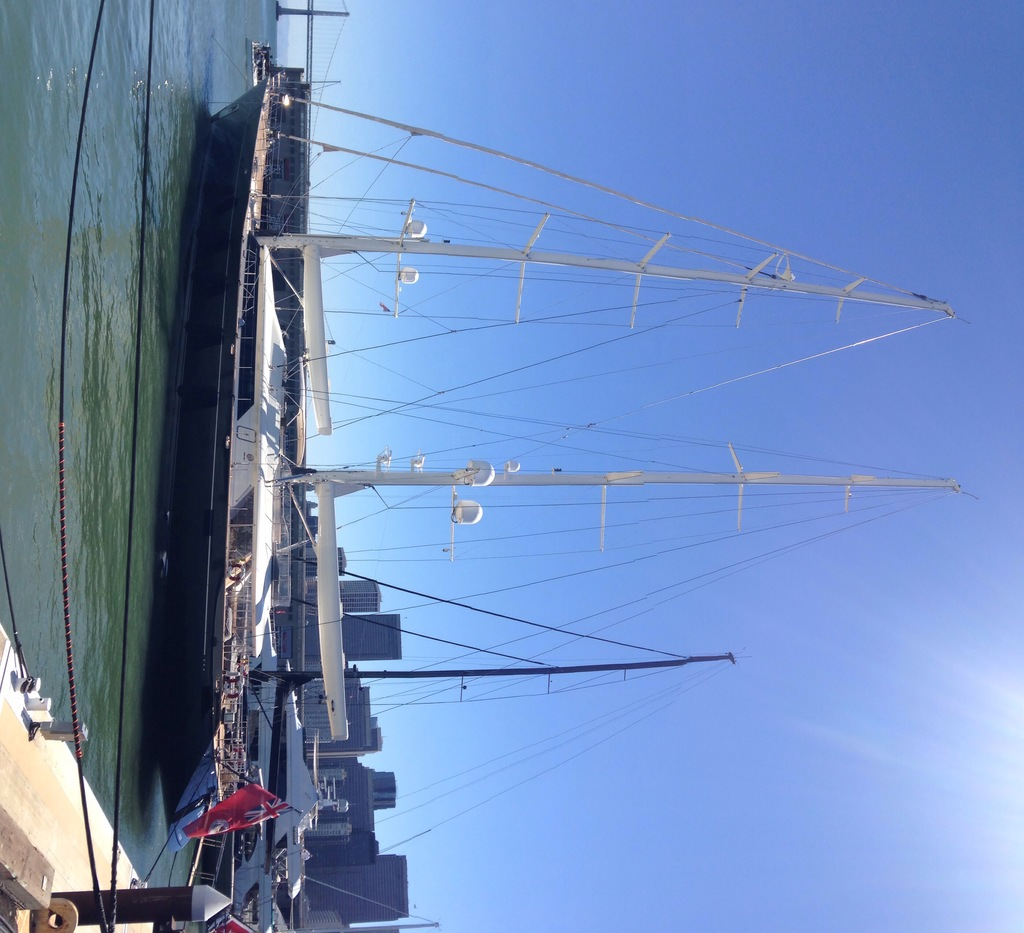boat: (143, 40, 987, 877)
